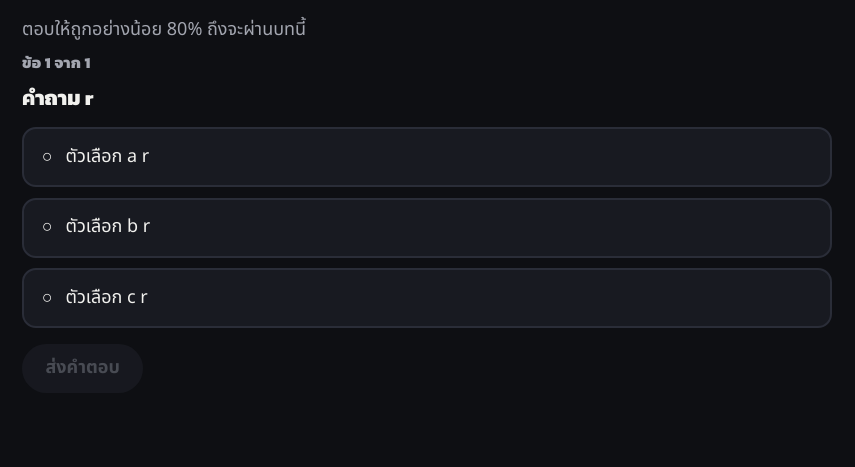
Test: QuizView motion feedback › ตอบถูก: ตัวเลือกที่ถูกได้ .celebrate และมีเครื่องหมาย ✓ (ไม่ใช่แค่สี)
Click the button "○ ตัวเลือก a r" at x=107, y=156, box [22,127,832,187]
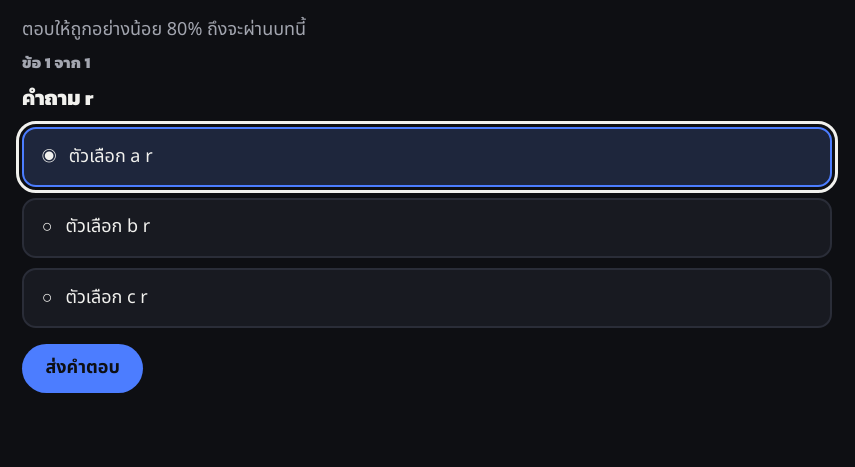
Click the button "ส่งคำตอบ" at x=83, y=369, box [22,344,143,393]
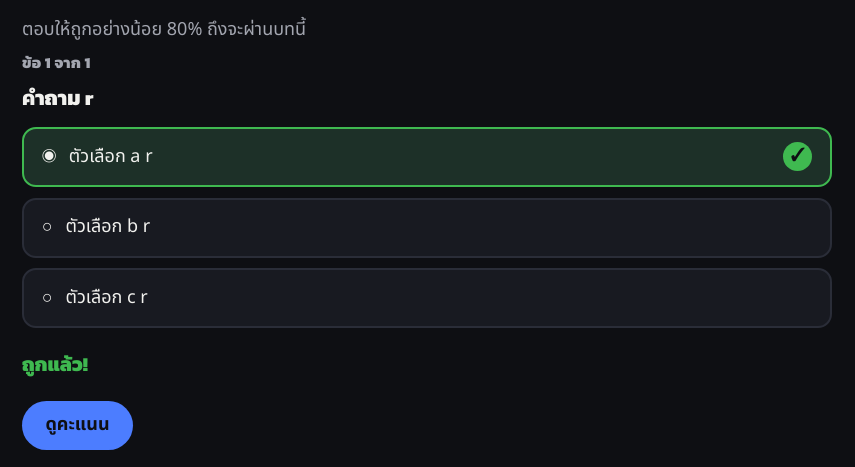
Result: the button "◉ ตัวเลือก a r ✓" is shown at [22,127,832,187]
